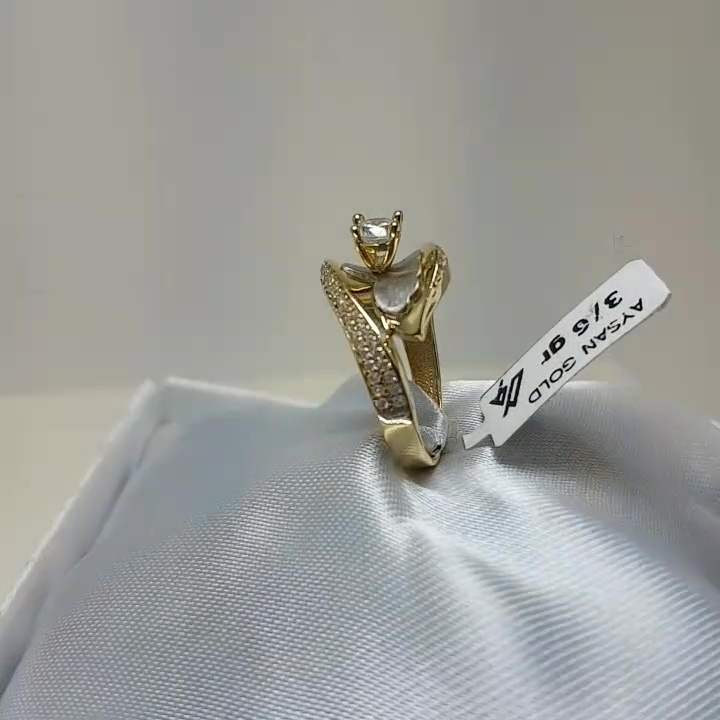Ring 6: (299, 200, 497, 475)
